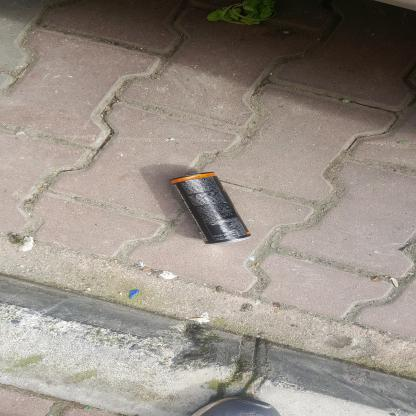metal: (172, 170, 246, 256)
